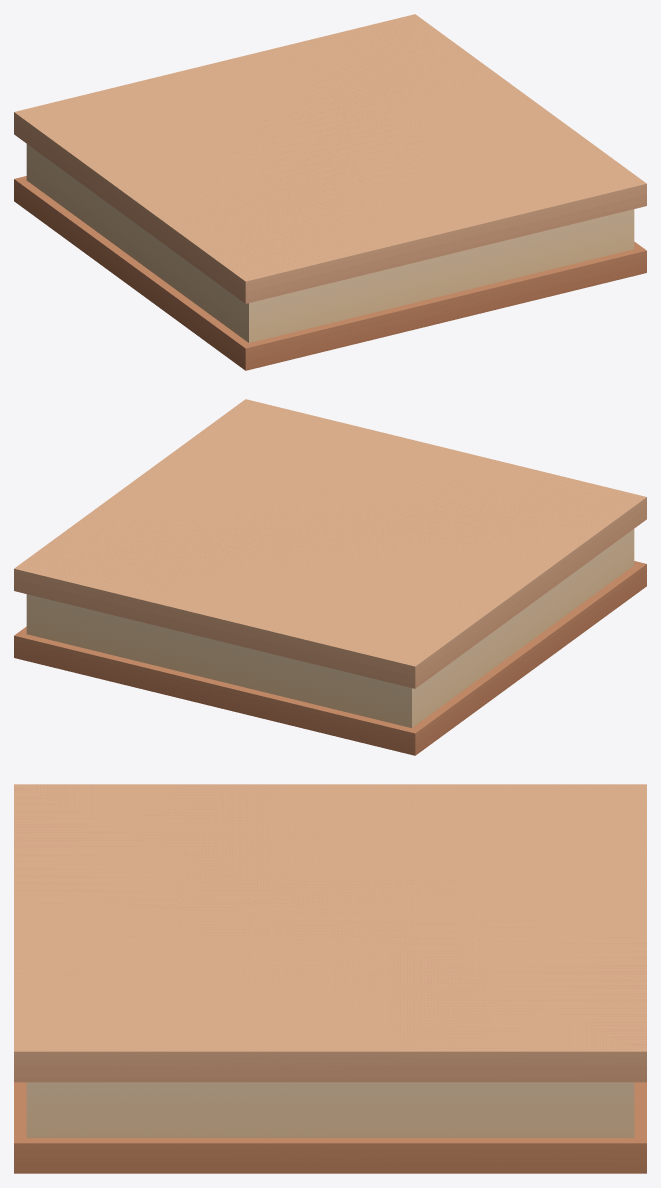
File: roof-flat-detail-b.glb
The picture shows the model from 3 angles, top to bottom: view 1: azimuth 30°, elevation 25°; view 2: azimuth 150°, elevation 25°; view 3: azimuth 270°, elevation 25°; orthographic projection. The views are drawn at different scales.
Visible parts, largest first — view 1: roof-flat-detail-b; view 2: roof-flat-detail-b; view 3: roof-flat-detail-b.
Part boxes in pixels (<box>): roof-flat-detail-b: <box>14,14,646,370</box>; roof-flat-detail-b: <box>14,399,646,755</box>; roof-flat-detail-b: <box>14,784,646,1173</box>.
Bounding box in the file's own units: 1 × 0.2125 × 1.
1 material, 1 textured.
